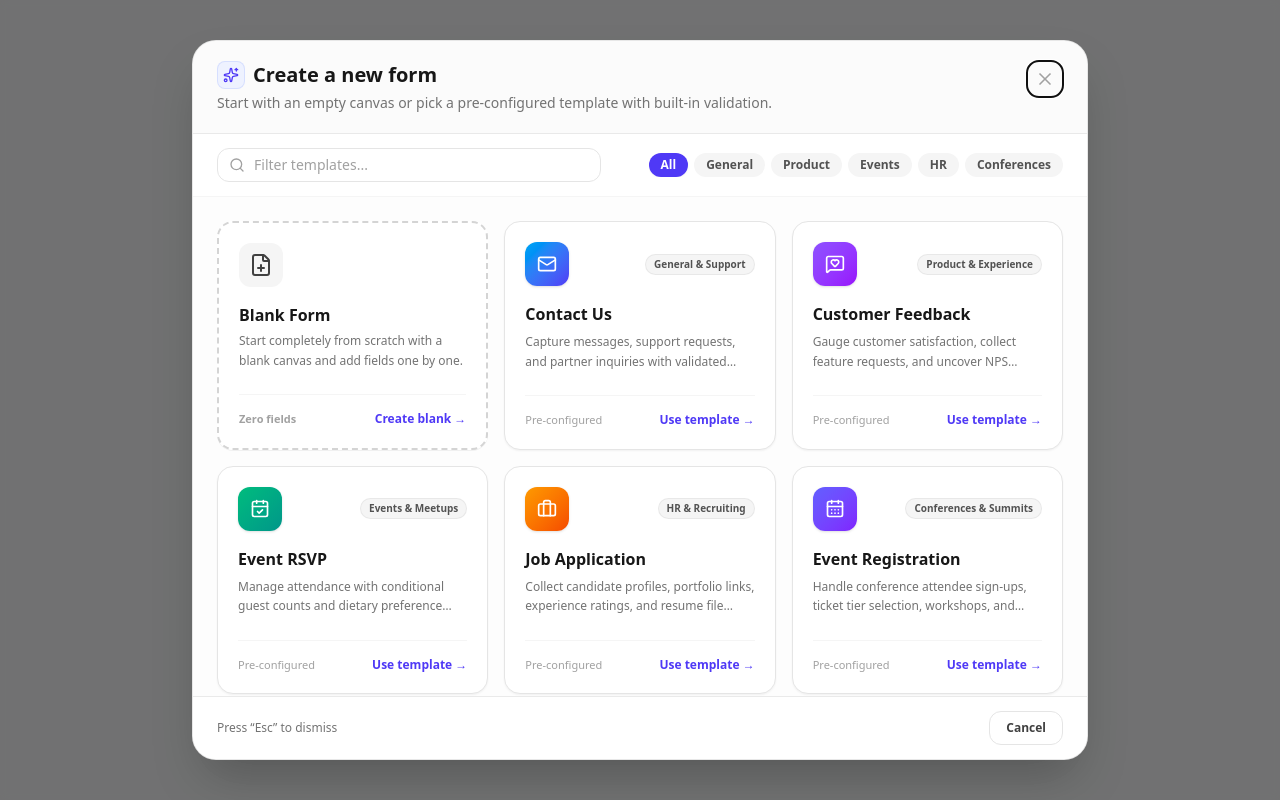
Test: TemplatePickerModal › filters templates by search query
The width and height of the screenshot is (1280, 800).
In the search field with placeholder "Filter templates...": [409, 165] box [217,148,601,182], type "hiring"
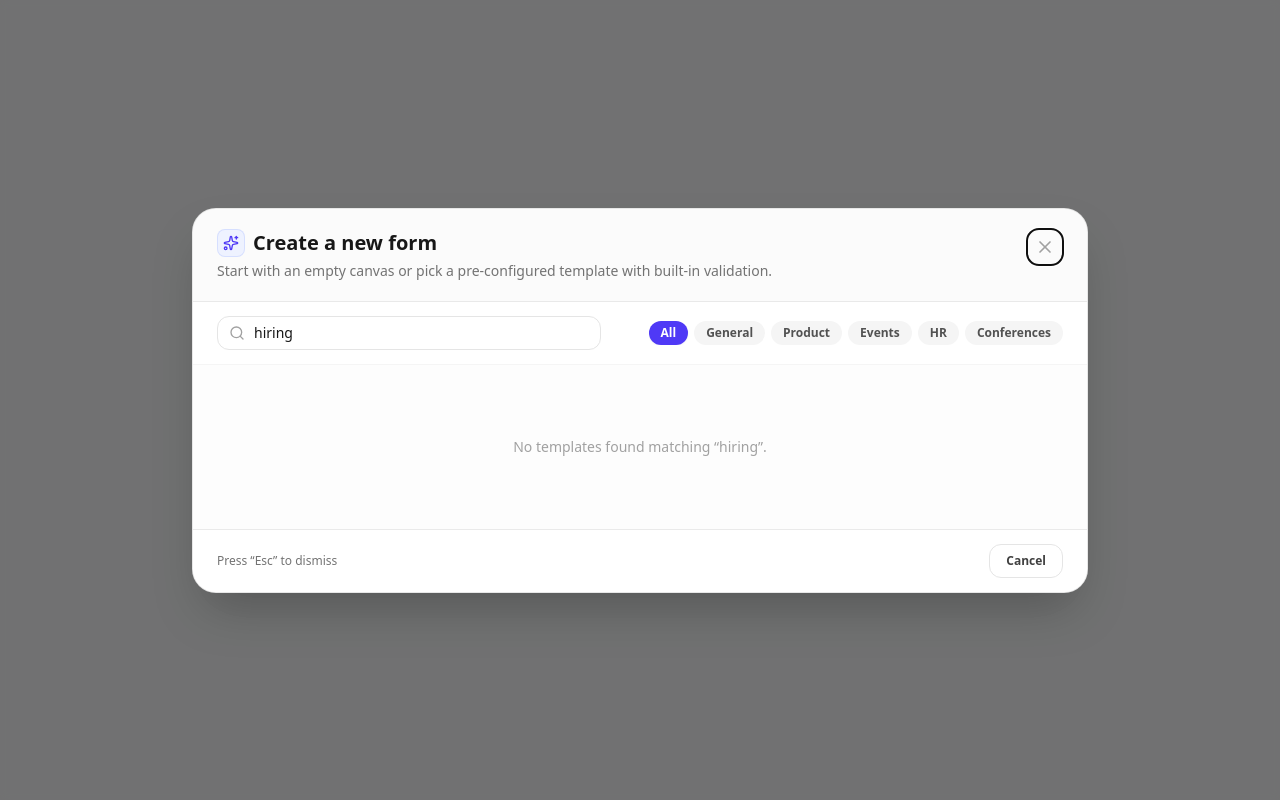
Expected: the text "No templates found matching “hiring”." is shown, [513,436,767,456]
Replace the text in the search field with placeholder "Filter templates..." with "RSVP": [409, 332] box [217,316,601,350]
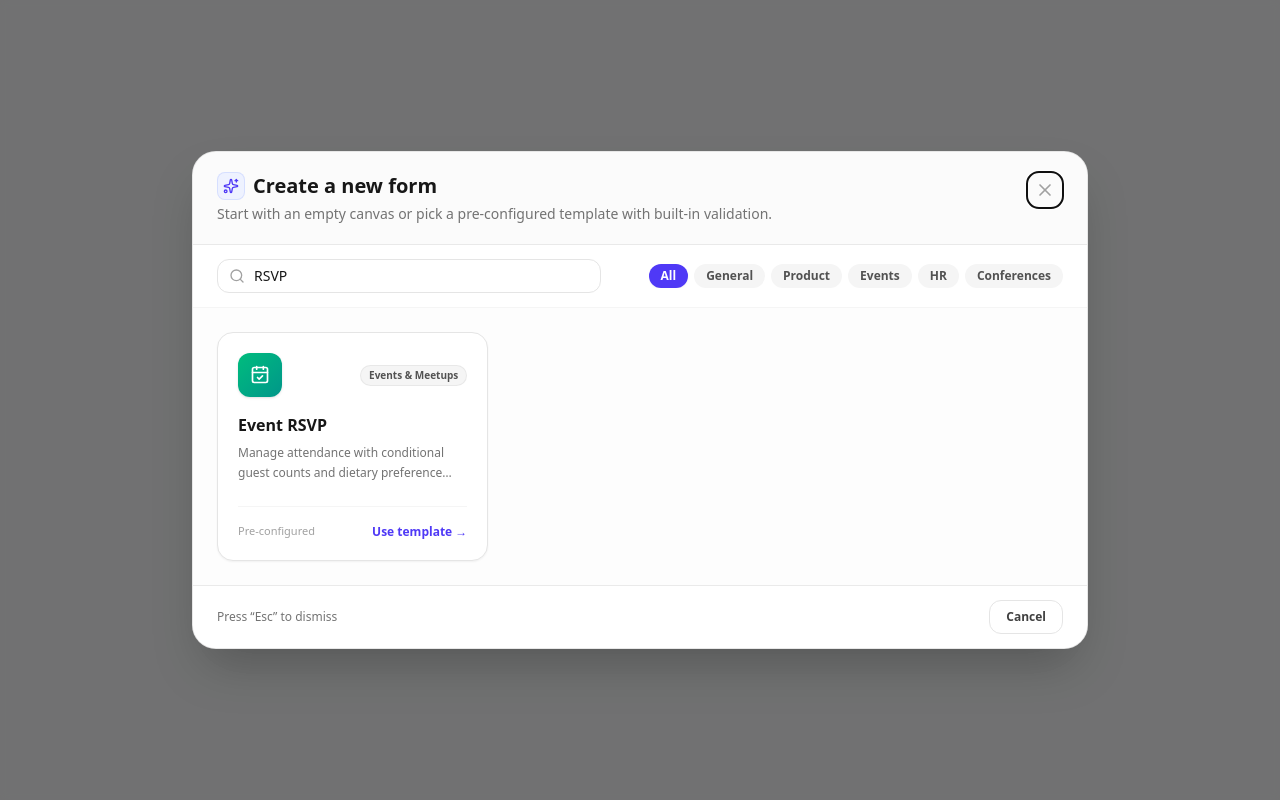
Expected: the button "Job Application" is not shown
Expected: the heading "Event RSVP" is shown, [238,414,327,436]
